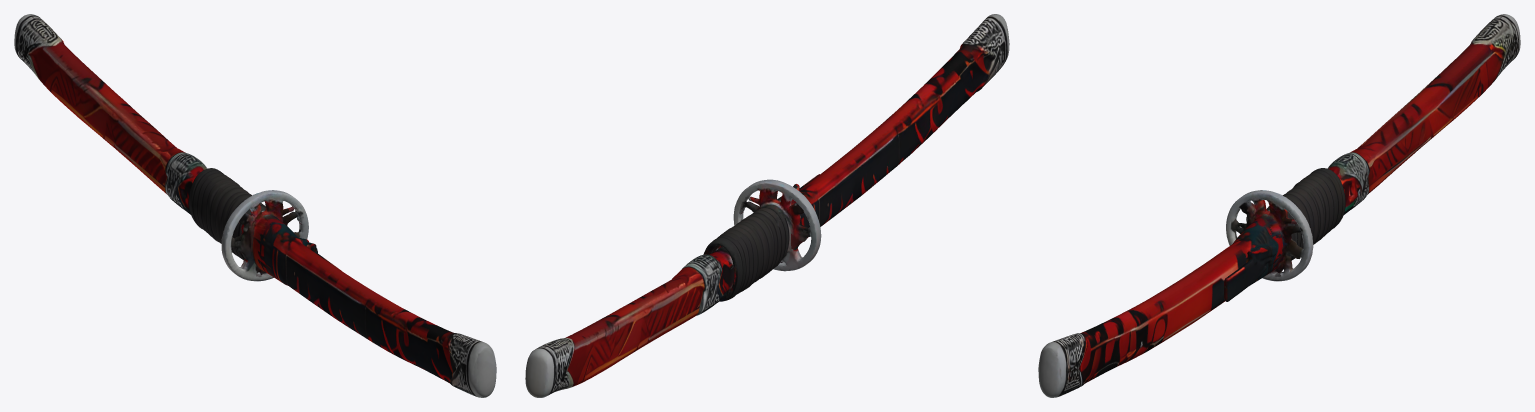
The model's file is cover+3d+model.fbx.
3 renders of one model, left to right at view 1: azimuth 30°, elevation 25°; view 2: azimuth 150°, elevation 25°; view 3: azimuth 330°, elevation 25°, orthographic.
Visible parts, largest first — view 1: tripo_node_47ac72aa; view 2: tripo_node_47ac72aa; view 3: tripo_node_47ac72aa.
Boxes of the visible parts, <box> form: tripo_node_47ac72aa: <box>14,14,496,397</box>; tripo_node_47ac72aa: <box>525,14,1009,397</box>; tripo_node_47ac72aa: <box>1038,14,1520,397</box>.
Bounding box in the file's own units: 0.1047 × 0.1125 × 1.
Materials: 1 (1 with a texture image).
